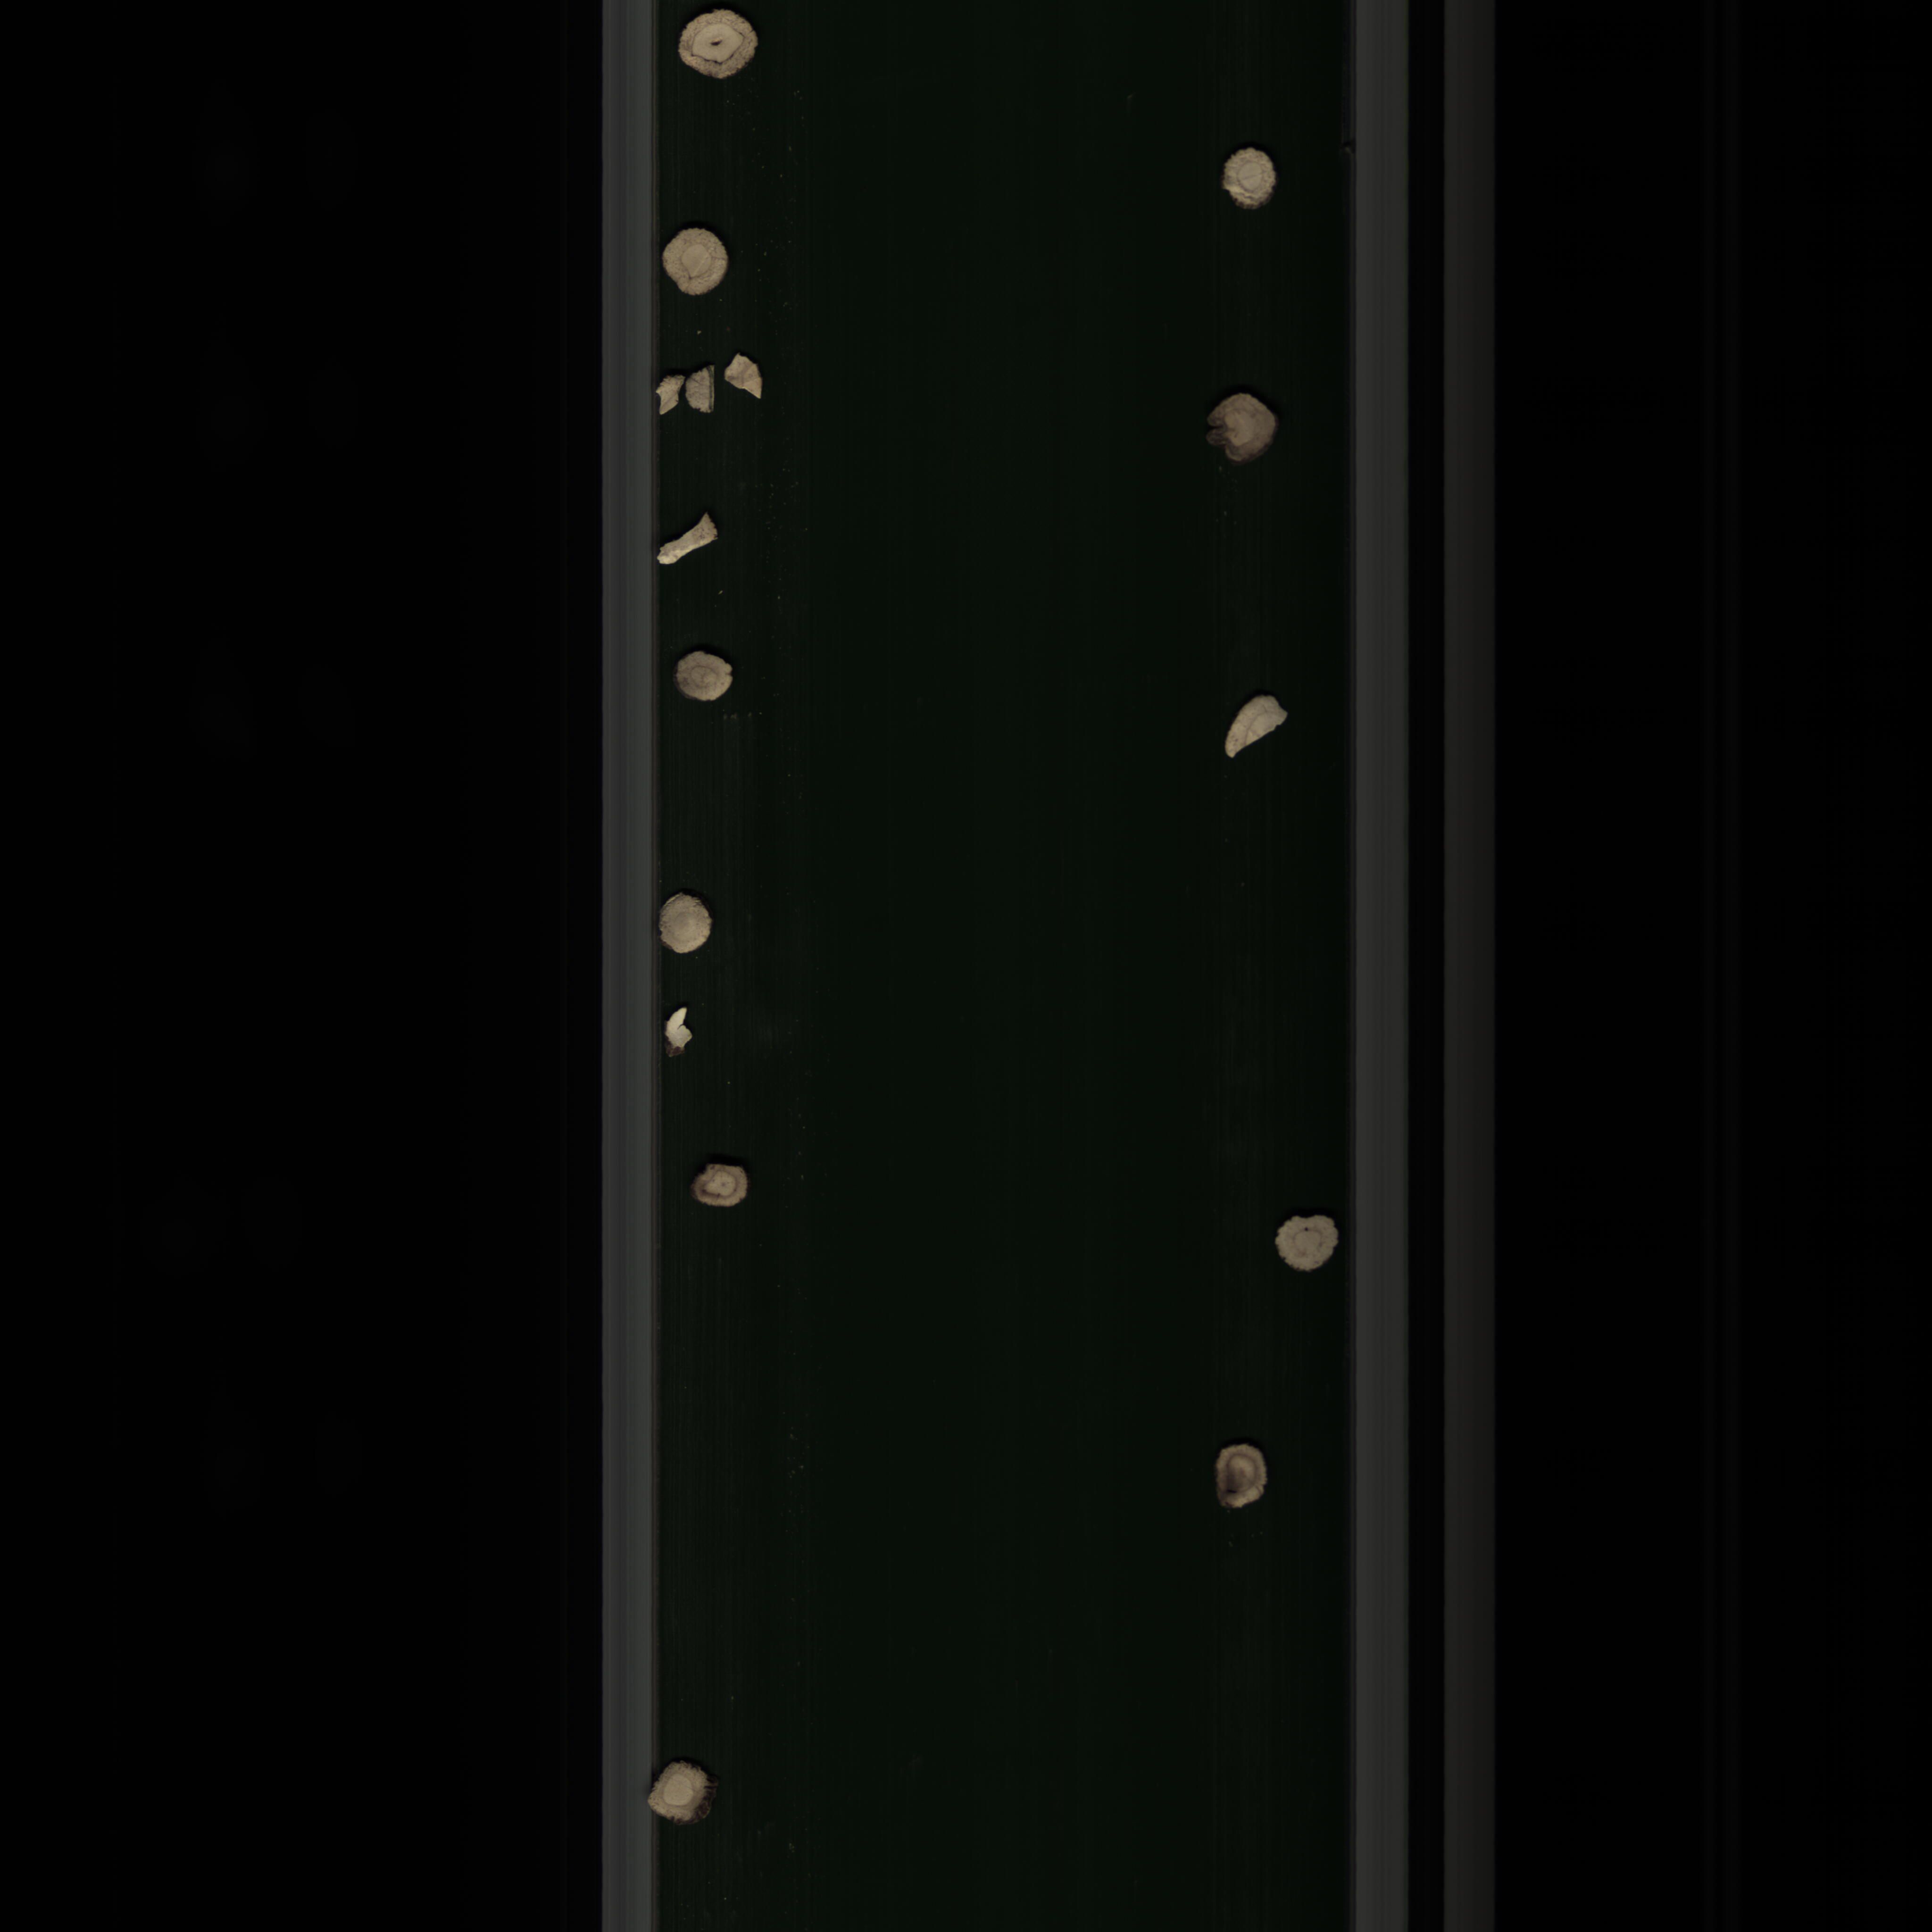debris: (1214, 690, 1295, 763), (660, 513, 727, 568), (725, 354, 775, 407), (683, 359, 717, 423), (663, 1001, 699, 1060), (656, 363, 683, 428)
hole: (663, 0, 761, 81)
moldy: (1184, 377, 1290, 467), (1207, 1433, 1277, 1520), (686, 1152, 766, 1214)
